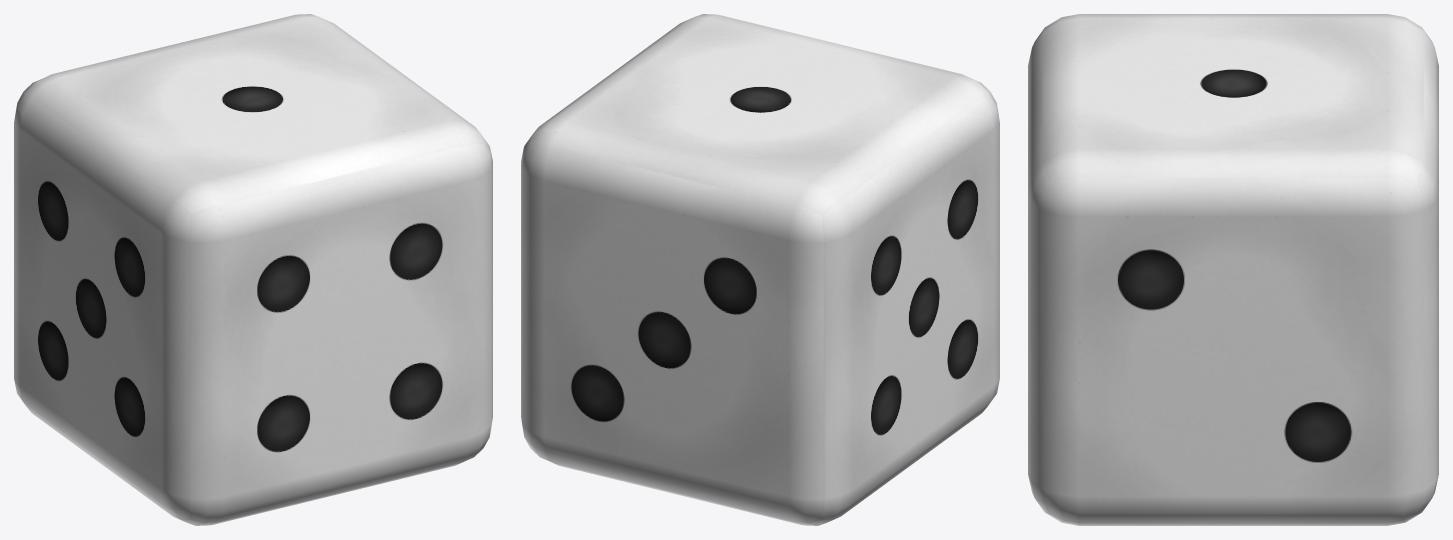
The model's file is Dice.fbx.
3 views of the same model, side by side, from view 1: azimuth 30°, elevation 25°; view 2: azimuth 150°, elevation 25°; view 3: azimuth 270°, elevation 25° (orthographic). The views are drawn at different scales.
Parts seen in each view (by area): view 1: Dice; view 2: Dice; view 3: Dice.
Part boxes in pixels (left/top/right/bottom): Dice: left=14, top=14, right=492, bottom=525; Dice: left=521, top=14, right=999, bottom=525; Dice: left=1028, top=14, right=1438, bottom=525.
Size of the model in its own units: 0.1 by 0.1 by 0.1.
